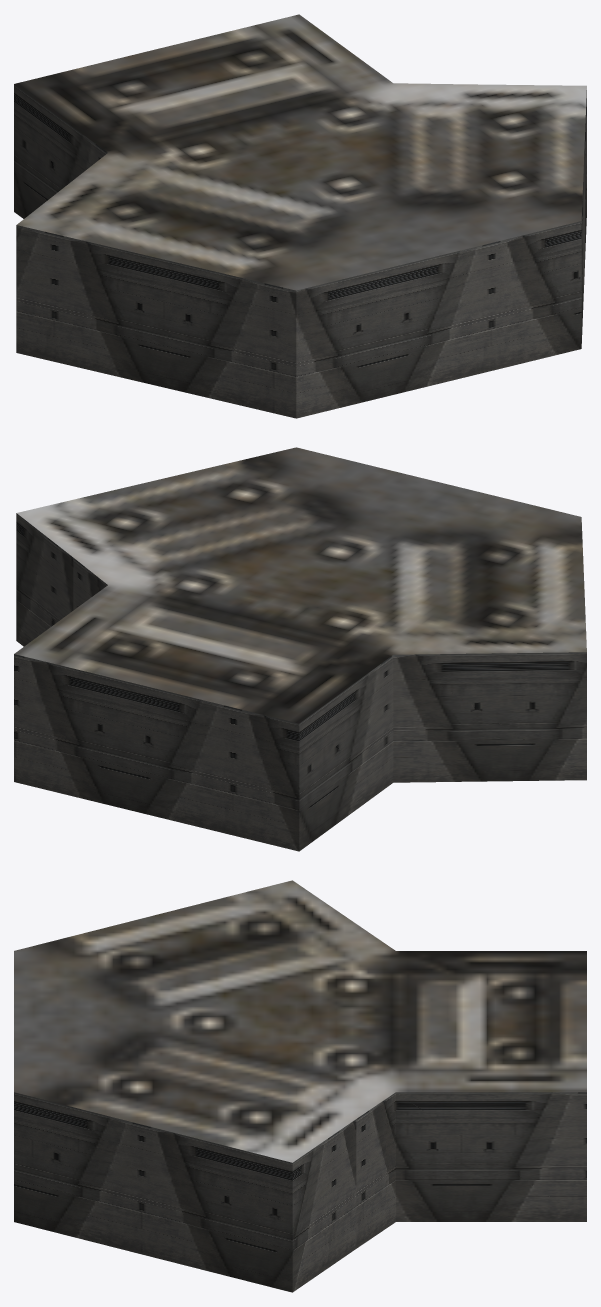
Rendered from fortress_heavy_29.glb.
3 renders of one model, top to bottom at view 1: azimuth 30°, elevation 25°; view 2: azimuth 150°, elevation 25°; view 3: azimuth 270°, elevation 25°, orthographic.
Visible parts, largest first — view 1: buildings/saxarba/fortress_heavy/fortress_heavy_29; view 2: buildings/saxarba/fortress_heavy/fortress_heavy_29; view 3: buildings/saxarba/fortress_heavy/fortress_heavy_29.
Boxes of the visible parts, left/top/right/bottom form: buildings/saxarba/fortress_heavy/fortress_heavy_29: left=14, top=14, right=586, bottom=418; buildings/saxarba/fortress_heavy/fortress_heavy_29: left=14, top=447, right=586, bottom=851; buildings/saxarba/fortress_heavy/fortress_heavy_29: left=14, top=880, right=586, bottom=1292.
Bounding box in the file's own units: 84 × 18 × 72.
